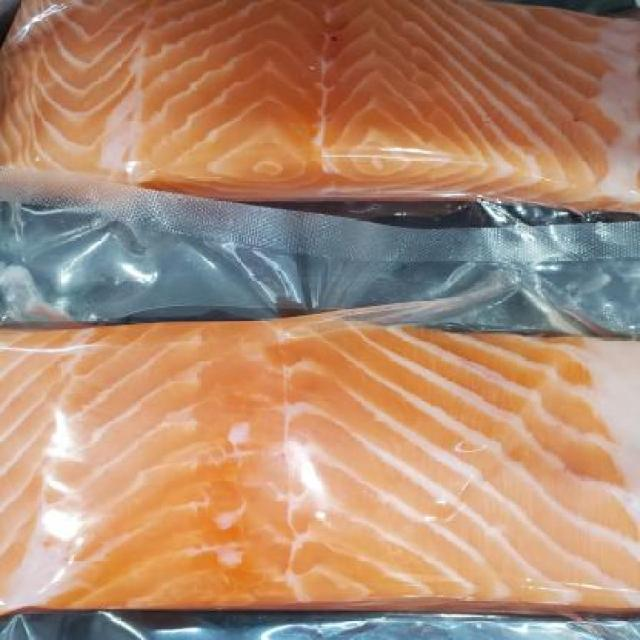salmon: (1, 289, 640, 620), (0, 0, 640, 220)
